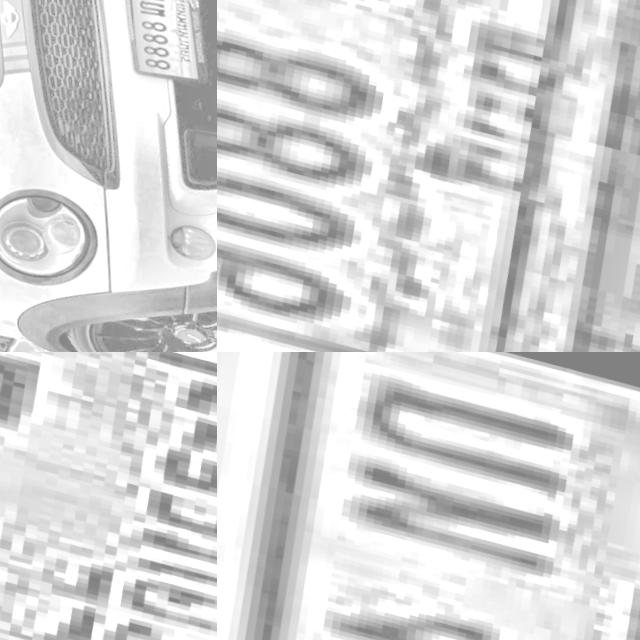license-plate: (217, 0, 640, 352), (217, 352, 640, 640), (0, 352, 217, 640), (95, 0, 217, 87)
